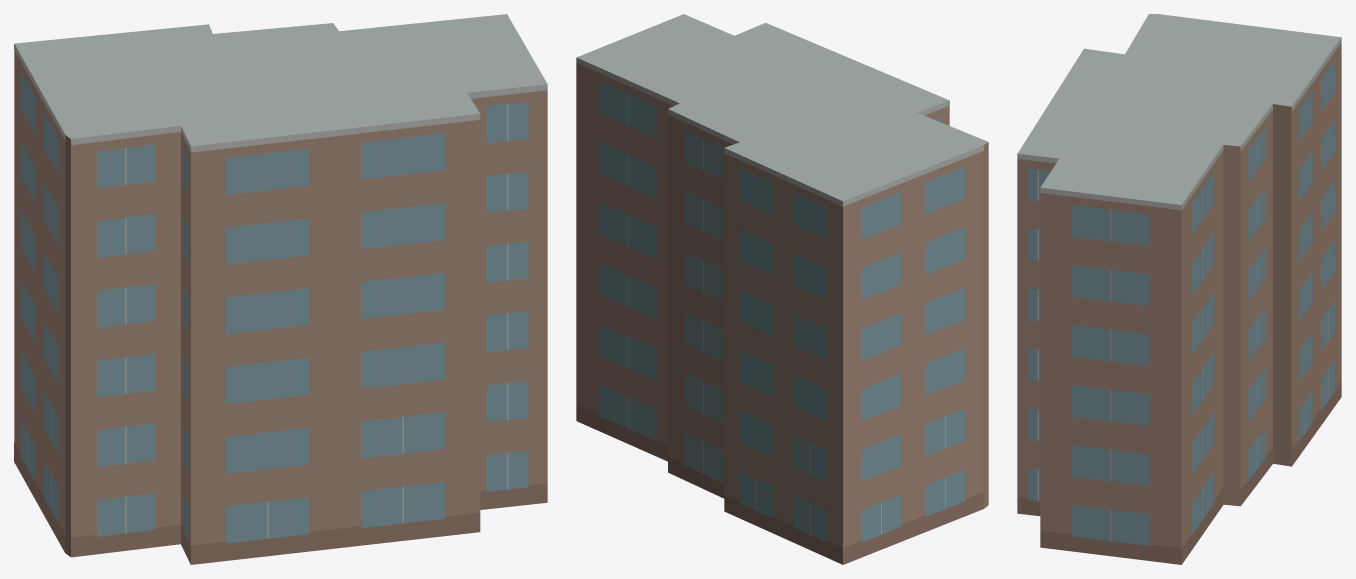
The model's file is survey-upis-32820439.glb.
3 renders of one model, left to right at view 1: azimuth 30°, elevation 25°; view 2: azimuth 150°, elevation 25°; view 3: azimuth 270°, elevation 25°, orthographic. The views are drawn at different scales.
Visible parts, largest first — view 1: survey-upis-32820439.tmp; view 2: survey-upis-32820439.tmp; view 3: survey-upis-32820439.tmp.
Boxes of the visible parts, <box> form: survey-upis-32820439.tmp: <box>14,14,547,564</box>; survey-upis-32820439.tmp: <box>576,14,988,564</box>; survey-upis-32820439.tmp: <box>1017,14,1341,564</box>.
Bounding box in the file's own units: 19.03 × 16.7 × 13.64.
